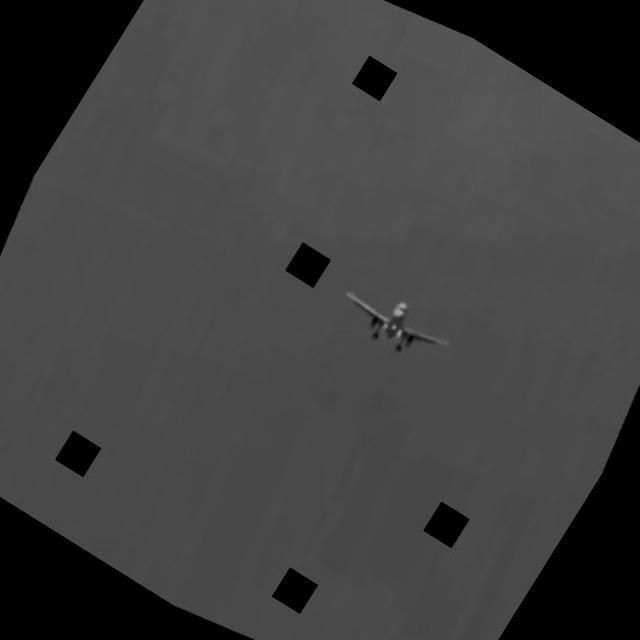aeroplane: (324, 264, 461, 381)
